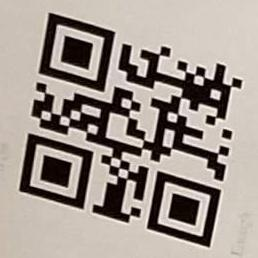qrcode: (20, 12, 244, 249)
